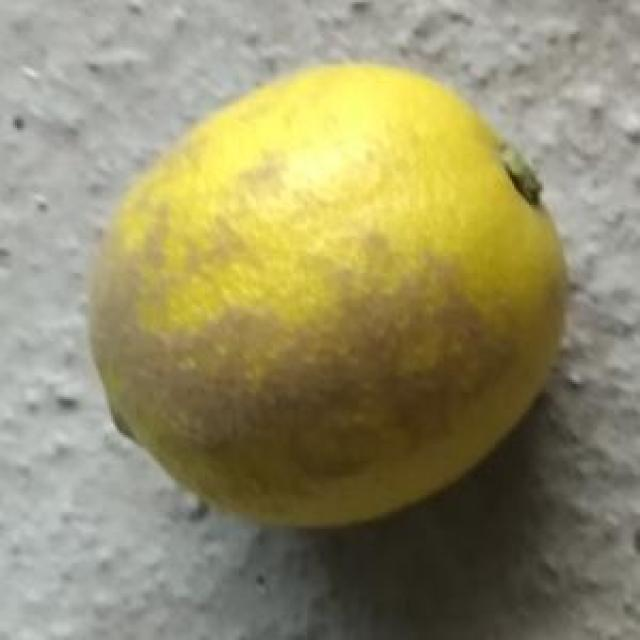lemon: (88, 58, 572, 535)
